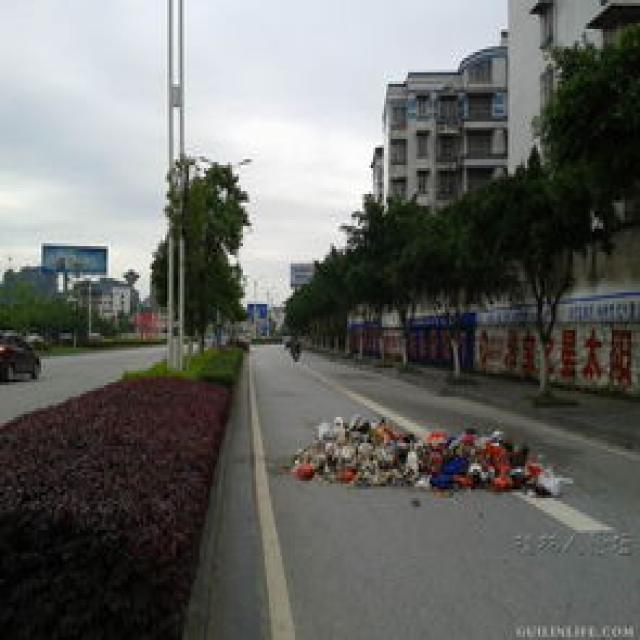garbage: (269, 405, 566, 501)
